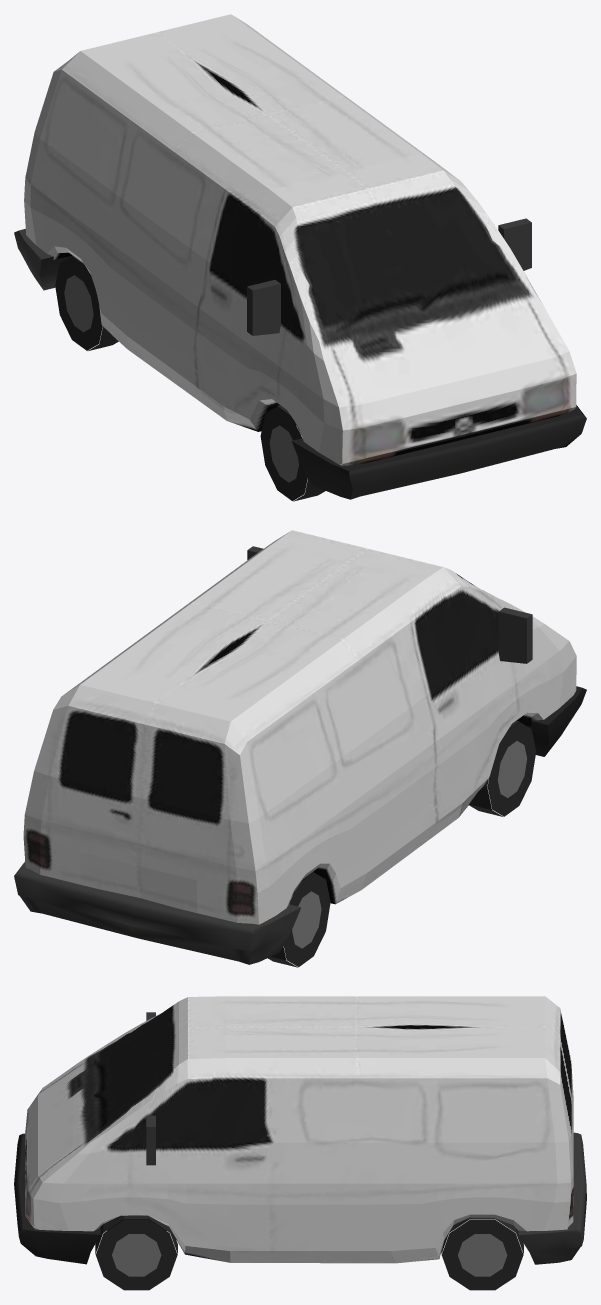
Rendered from van.glb.
3 views of the same model, one above another, from view 1: azimuth 30°, elevation 25°; view 2: azimuth 150°, elevation 25°; view 3: azimuth 270°, elevation 25° (orthographic). The views are drawn at different scales.
Visible parts, largest first — view 1: body, trim; view 2: body, trim; view 3: body, trim.
Boxes of the visible parts, x1,y1,x2,y2 form: body: (24,14,576,465); trim: (14,218,586,501); body: (23,530,576,924); trim: (14,546,586,967); body: (25,996,573,1263); trim: (14,1012,586,1290).
Size of the model in its own units: 2.37 by 2.09 by 5.
2 materials, 1 textured.
